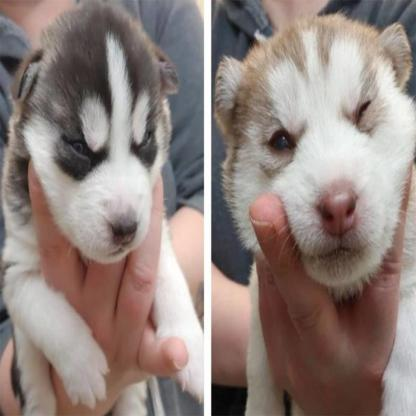husky: (1, 3, 202, 416), (214, 15, 415, 416)
